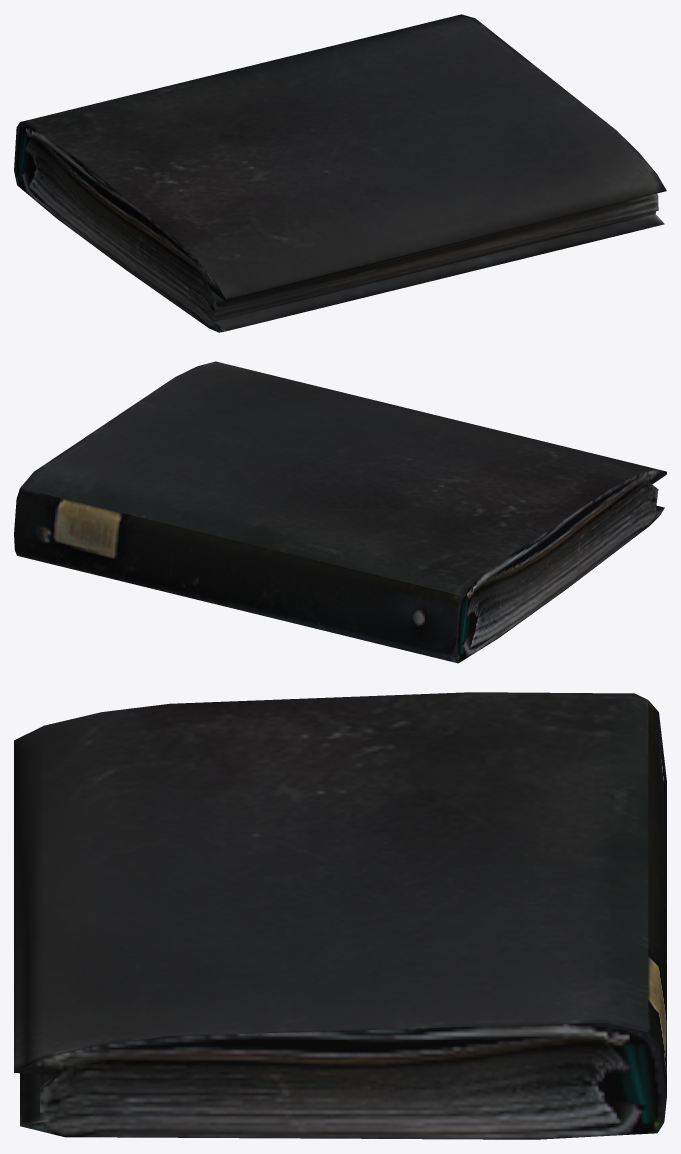
Rendered from binder-3.FBX.
The picture shows the model from 3 angles, top to bottom: view 1: azimuth 30°, elevation 25°; view 2: azimuth 150°, elevation 25°; view 3: azimuth 270°, elevation 25°; orthographic projection. The views are drawn at different scales.
Parts seen in each view (by area): view 1: Line01; view 2: Line01; view 3: Line01.
Boxes of the visible parts, left/top/right/bottom form: Line01: left=14, top=14, right=666, bottom=332; Line01: left=14, top=361, right=666, bottom=663; Line01: left=14, top=692, right=666, bottom=1139.
Size of the model in its own units: 12.48 by 2.07 by 10.36.
